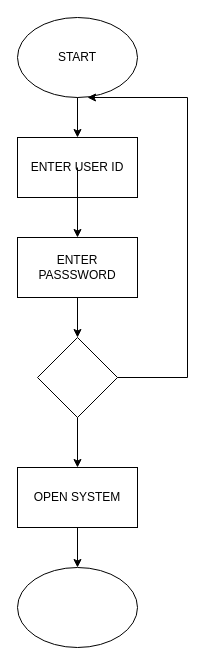
The diagram is 213 pixels wide and 665 high, and some of its shapes have lost their labels. The shapes that lost their labels are listed below. From the top down, each one's centre as x and y in pixels, then its label:
At (77,377): "CORRECT DETAILS".
At (77,607): "STOP".
